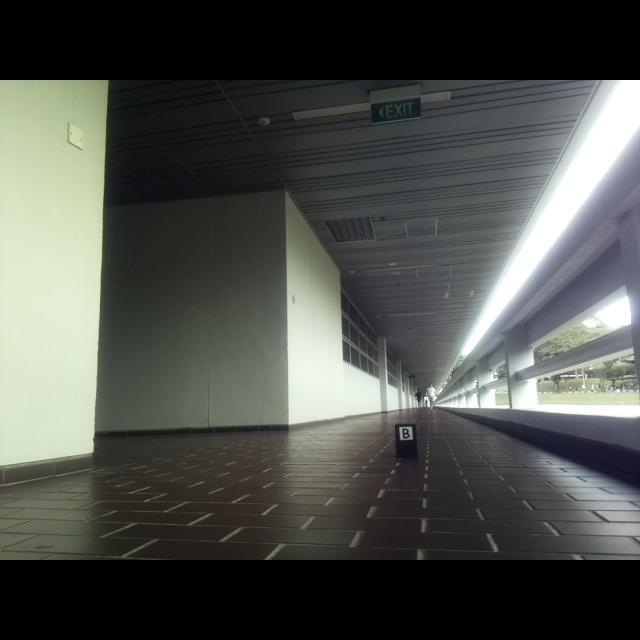B: (402, 428, 411, 439)
